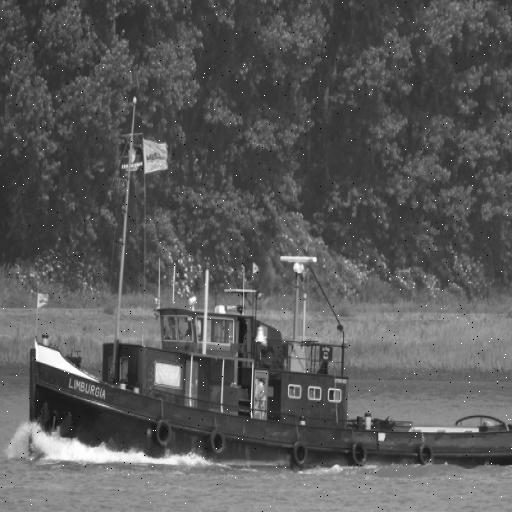tugboat: (25, 93, 512, 480)
